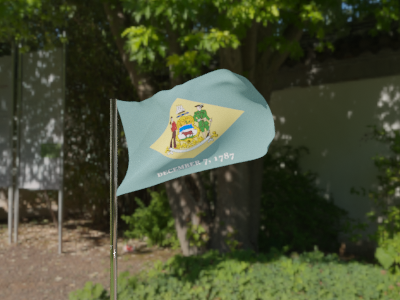Delaware flag: (116, 68, 276, 195)
